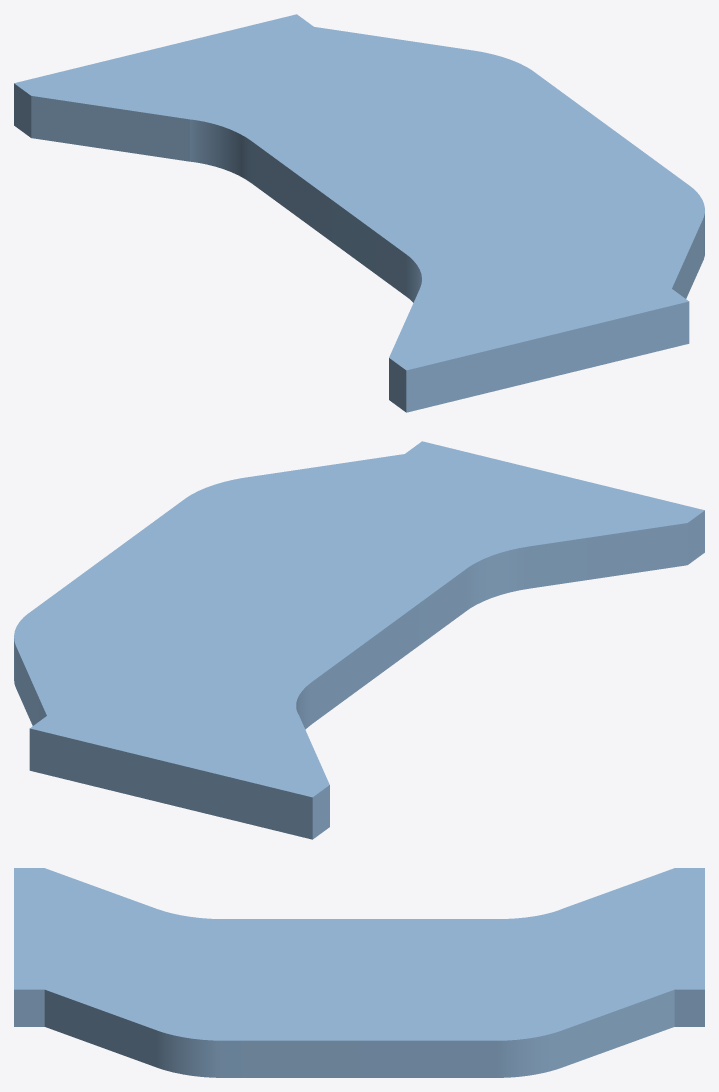
Rendered from cBend2.fbx.
The picture shows the model from 3 angles, top to bottom: view 1: azimuth 30°, elevation 25°; view 2: azimuth 150°, elevation 25°; view 3: azimuth 270°, elevation 25°; orthographic projection. The views are drawn at different scales.
Visible parts, largest first — view 1: cBend2; view 2: cBend2; view 3: cBend2.
Part boxes in pixels (left/top/right/bottom): cBend2: left=14, top=14, right=704, bottom=412; cBend2: left=14, top=441, right=704, bottom=839; cBend2: left=14, top=868, right=704, bottom=1077.
Bounding box in the file's own units: 497 × 50 × 841.
